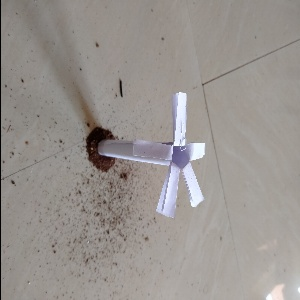weed: (95, 87, 208, 212)
